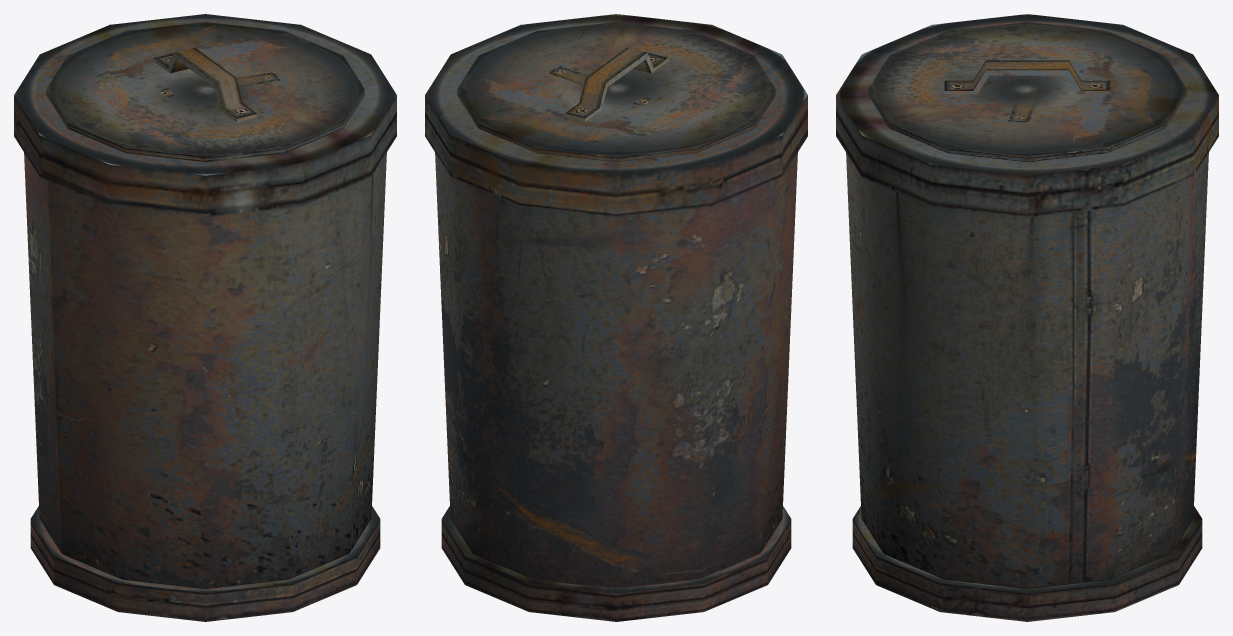
Rendered from metal_rubbish_bin.fbx.
3 views of the same model, side by side, from view 1: azimuth 30°, elevation 25°; view 2: azimuth 150°, elevation 25°; view 3: azimuth 270°, elevation 25° (orthographic).
Parts seen in each view (by area): view 1: polySurfa2; view 2: polySurfa2; view 3: polySurfa2.
Boxes of the visible parts, left/top/right/bottom form: polySurfa2: left=14, top=14, right=396, bottom=621; polySurfa2: left=425, top=14, right=807, bottom=621; polySurfa2: left=836, top=14, right=1218, bottom=621.
Bounding box in the file's own units: 20.17 × 28.07 × 20.17.
